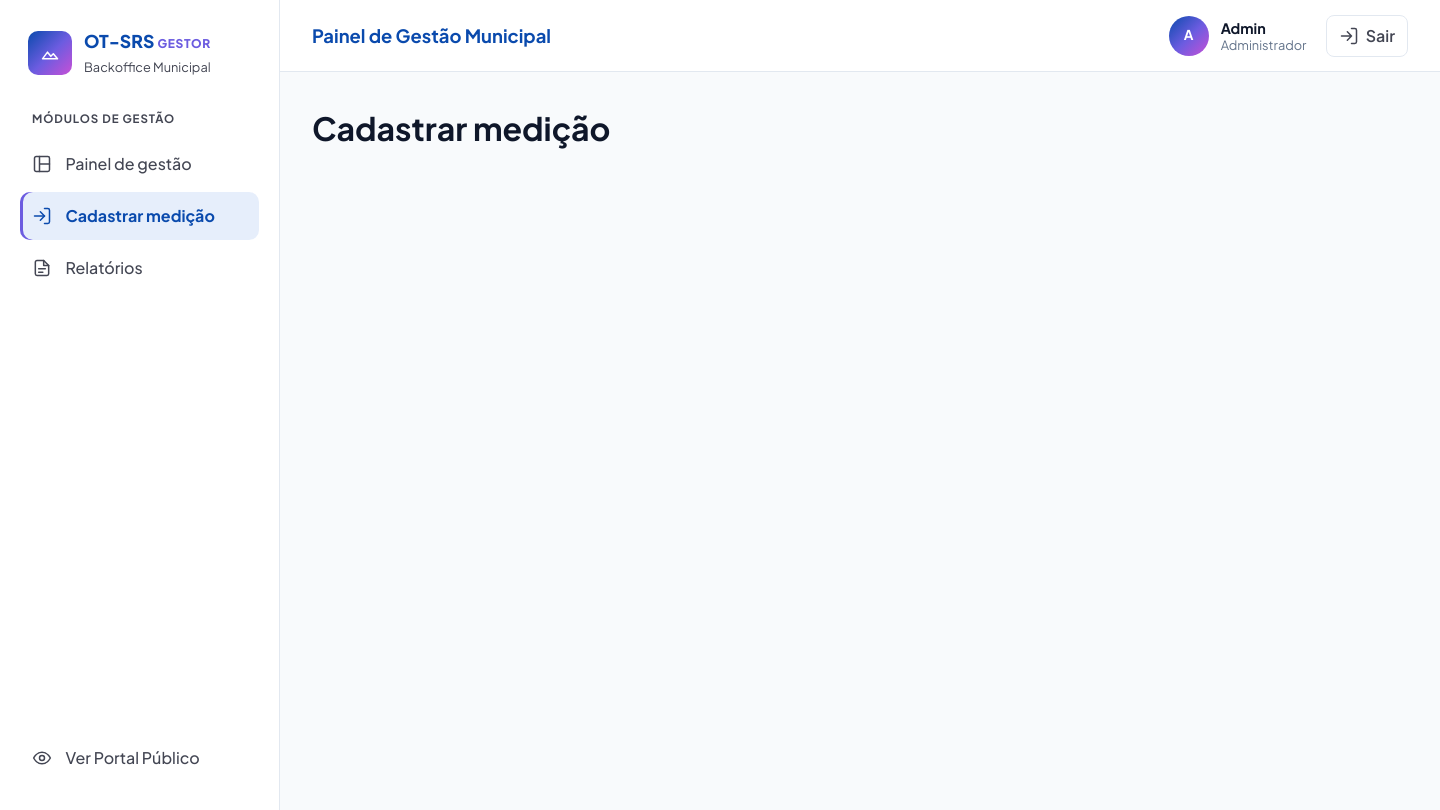
Scenario: AdminLayout › lista os módulos e marca o item ativo conforme a rota
Click the link "Relatórios" at (87, 267), box [32, 257, 143, 278]
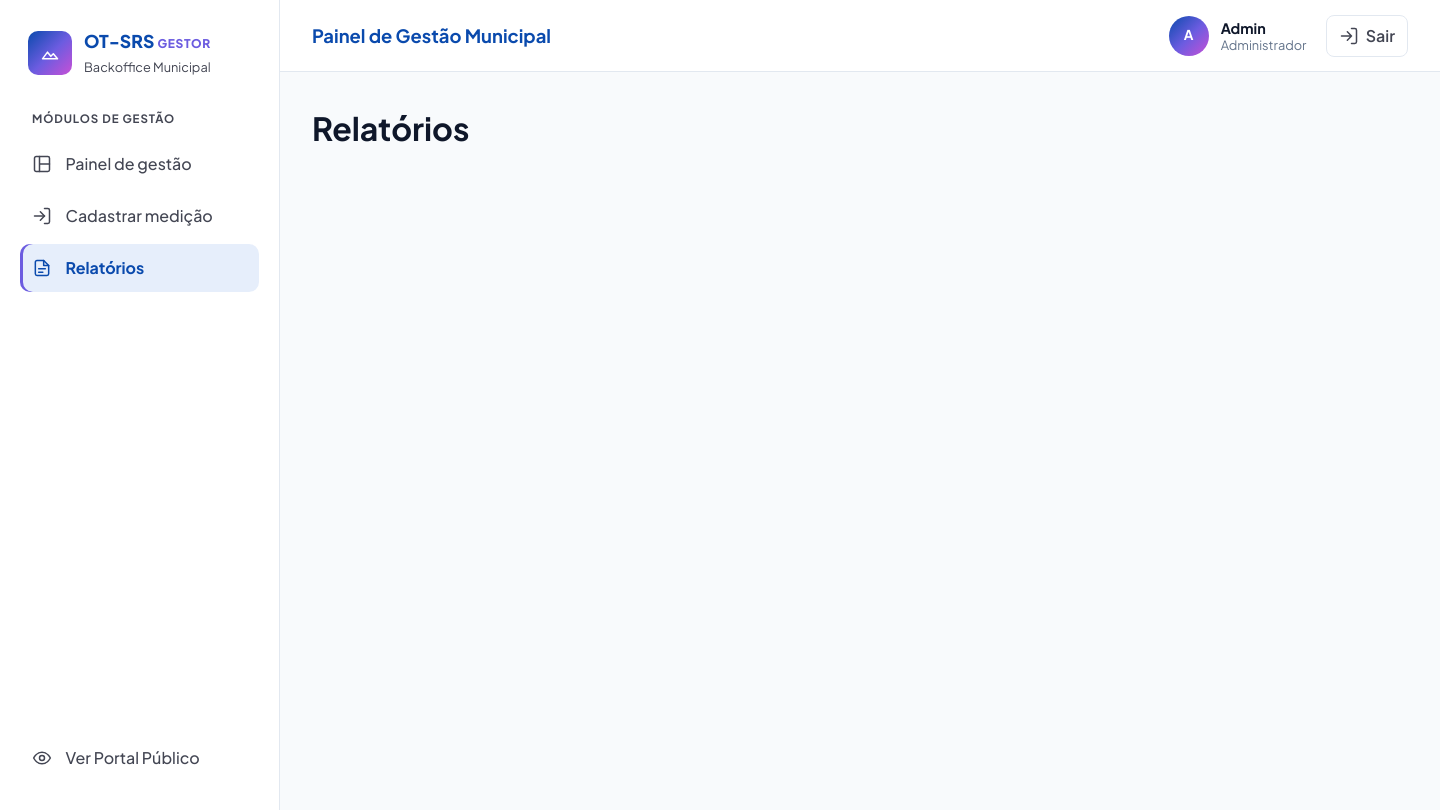
Result: the heading "Relatórios" is shown at [312, 108, 469, 148]
